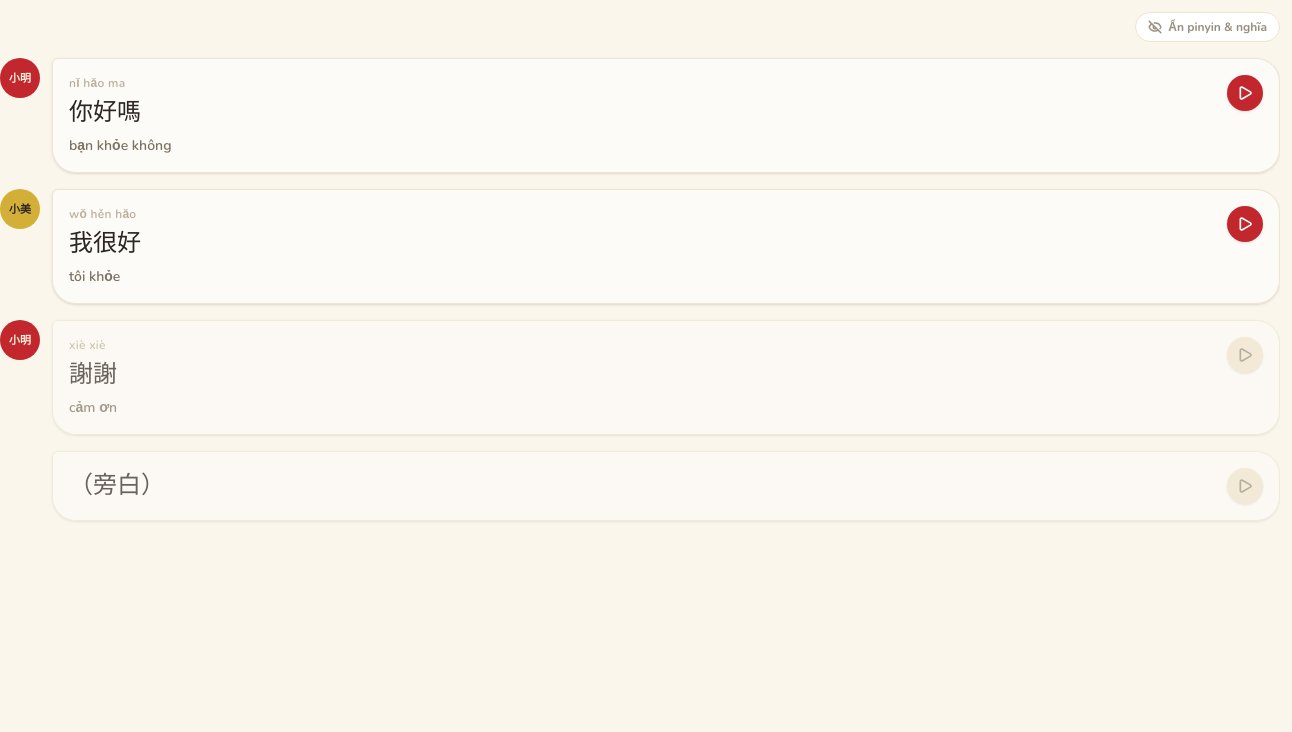
Test: ListenTab › shows pinyin and translation by default, and hides both when the toggle is clicked
The width and height of the screenshot is (1292, 732).
Expected: the text "nǐ hǎo ma" is shown, [69, 75, 126, 91]
Expected: the text "bạn khỏe không" is shown, [69, 136, 172, 155]
Click the button "Ẩn pinyin & nghĩa" at x=1208, y=27, box [1135, 12, 1280, 42]
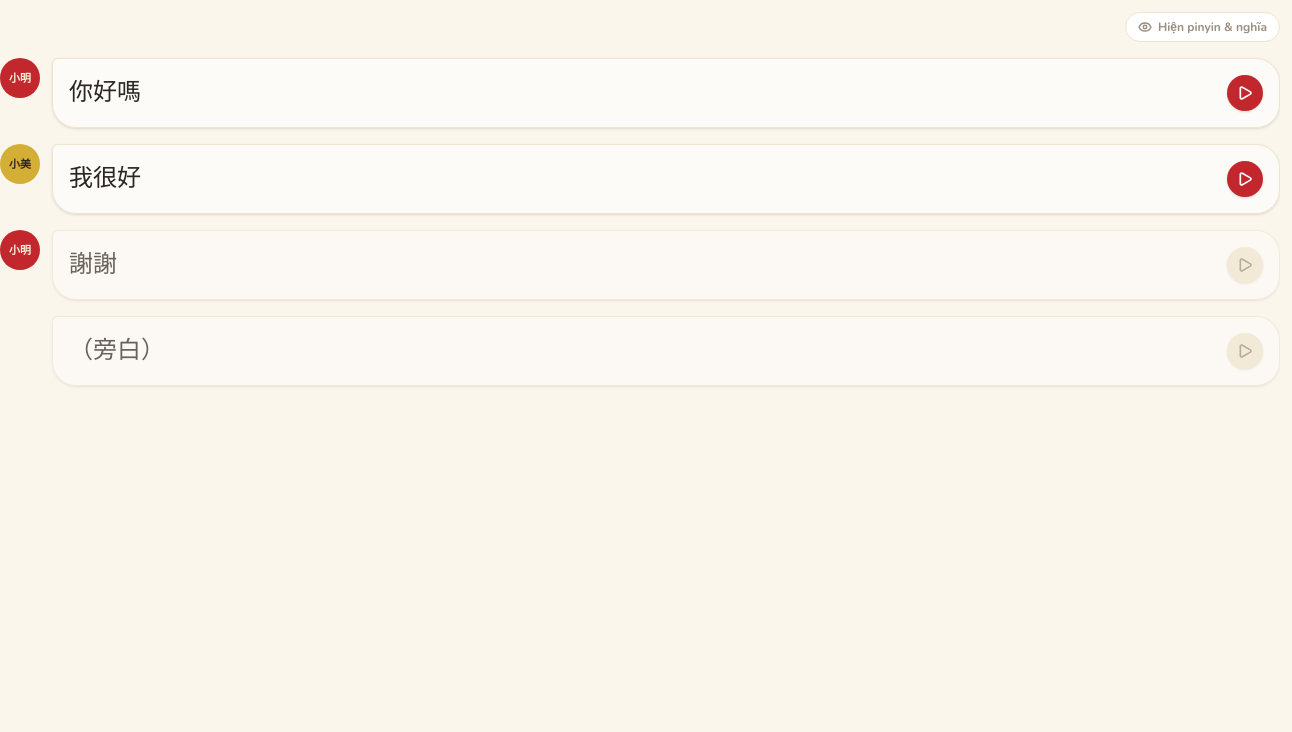
Expected: the text "你好嗎" is shown, [69, 78, 141, 105]
Now the text "nǐ hǎo ma" is gone
Now the text "bạn khỏe không" is gone
